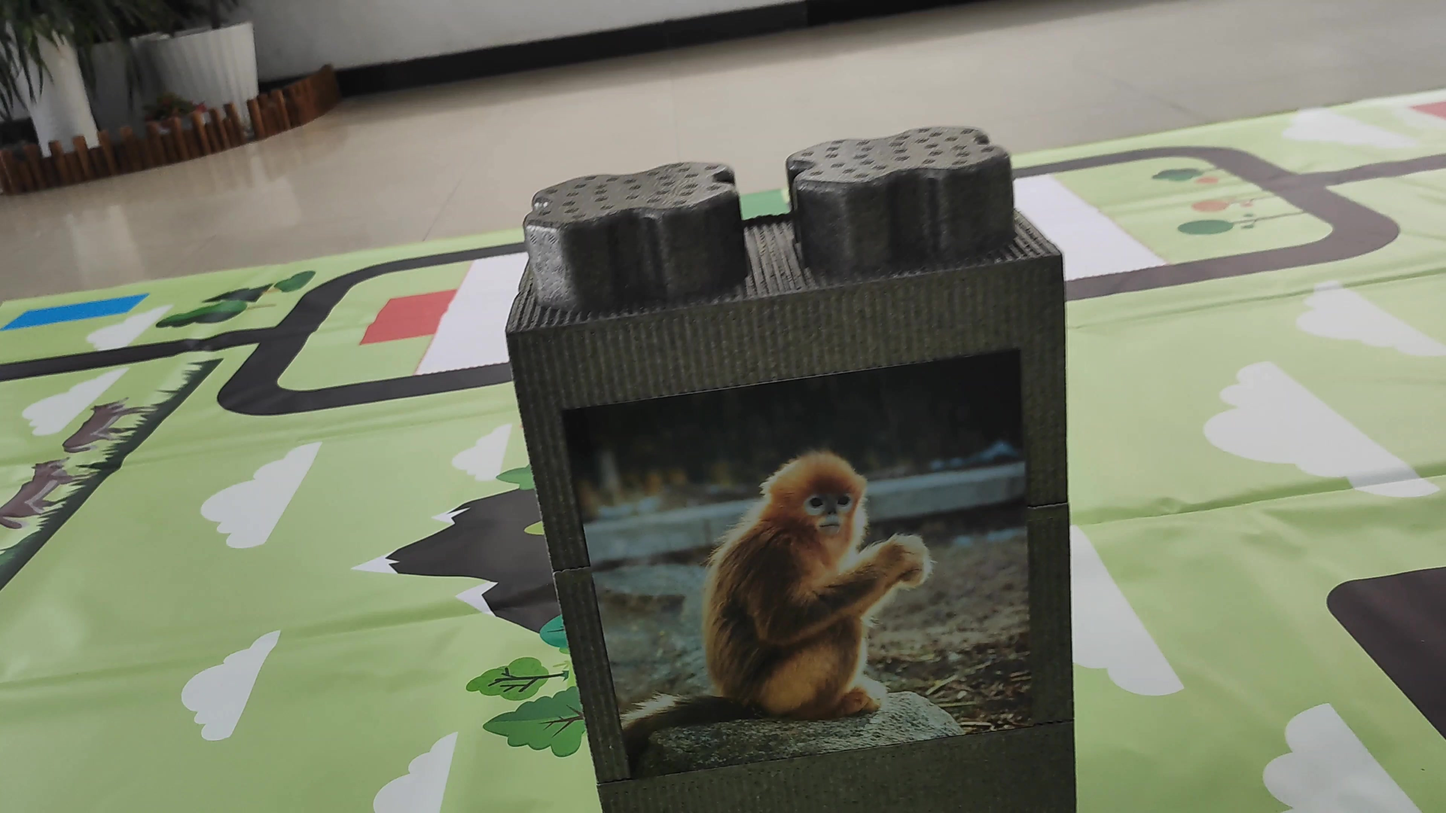monkey: (671, 422, 975, 738)
